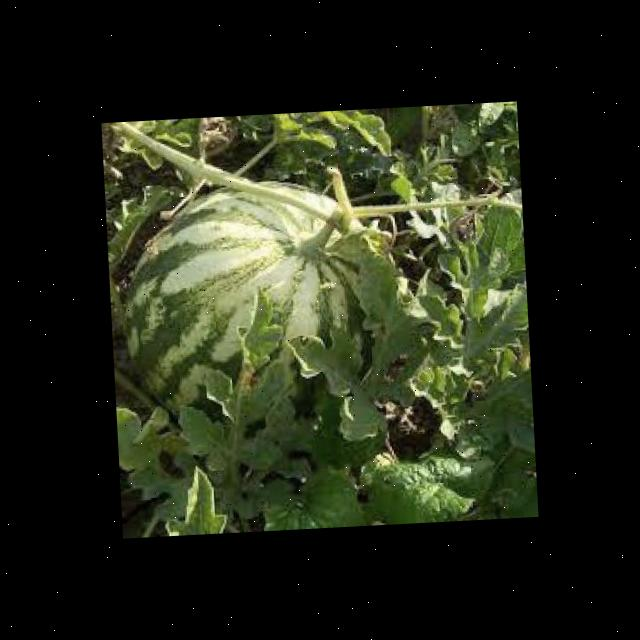watermelon: (115, 175, 378, 431)
